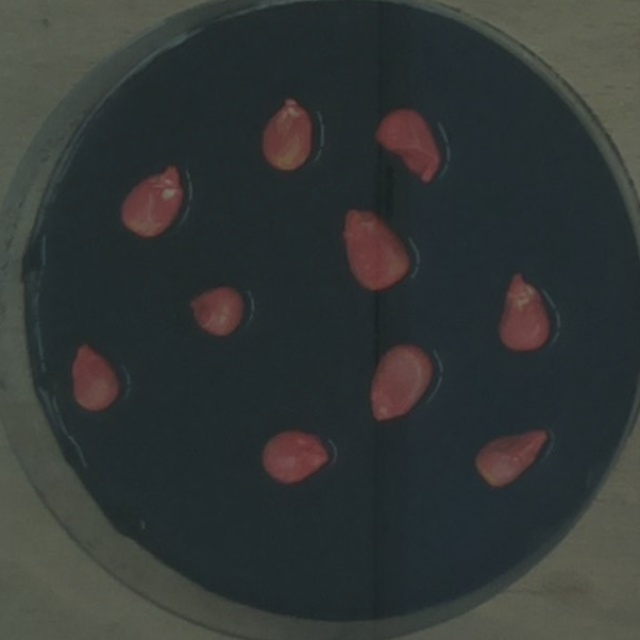Zea mays: (335, 199, 419, 299), (365, 97, 449, 193), (111, 156, 194, 243), (362, 337, 440, 429), (466, 419, 557, 493), (491, 263, 559, 356), (251, 89, 321, 179), (253, 420, 340, 492), (63, 334, 126, 417), (180, 275, 251, 344)
